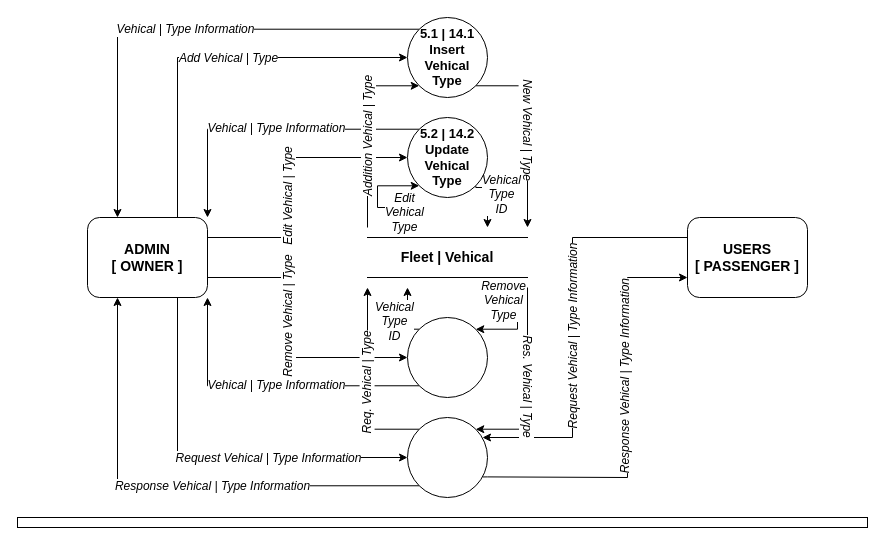
Image size: 885x545. Some labels were removed from this diagram. Each missing label, with the centre of its shape:
5.3 | 14.3 Delete Vehical Type: [447,357]
5.4 | 14.4 View Vehical Type: [447,457]
